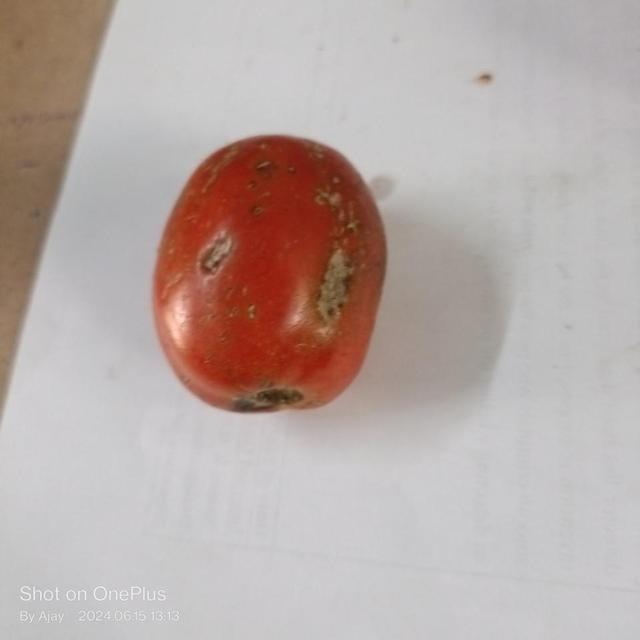Bacterial Spot Fruit: (15, 15, 225, 190)
